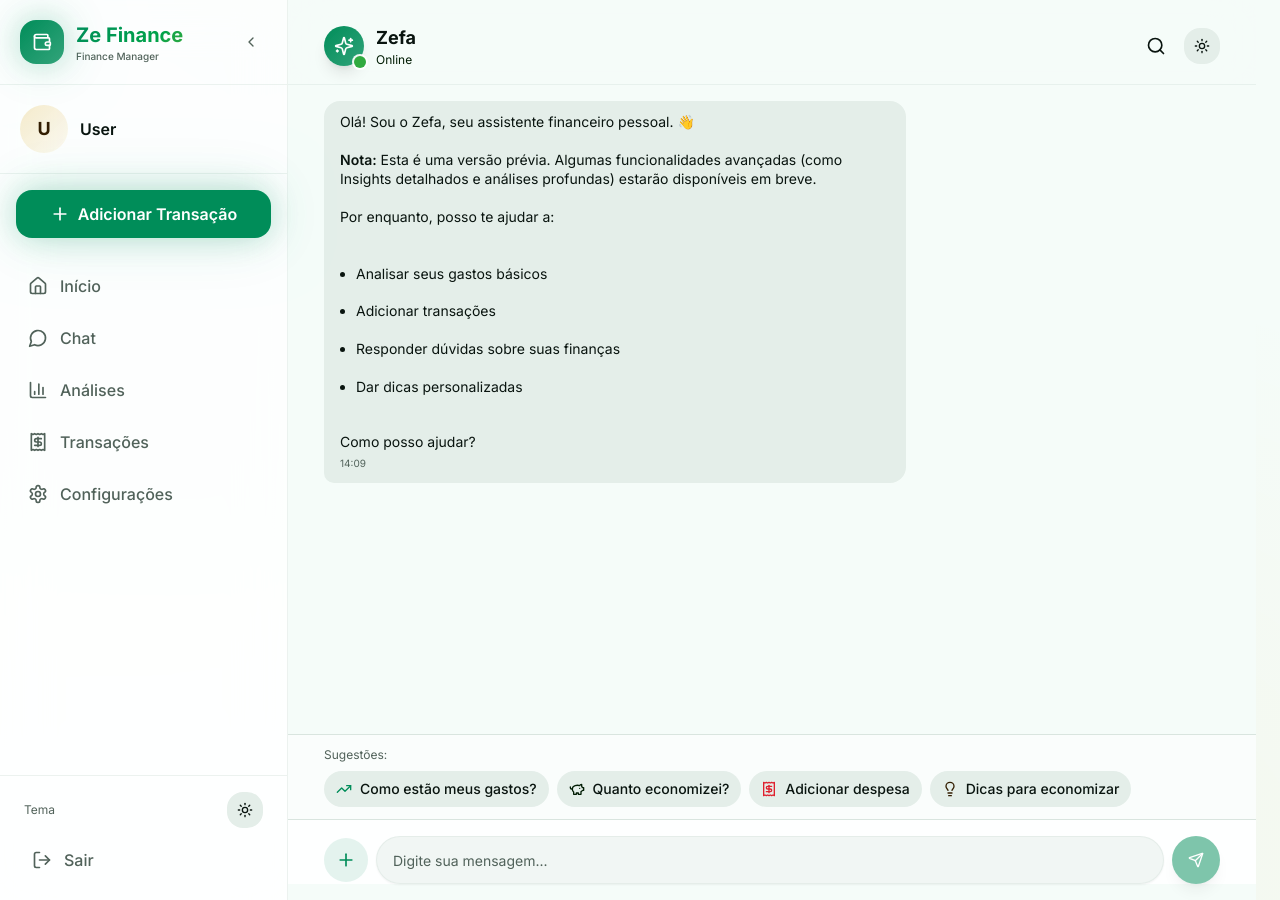
Scenario: Chat Integration Tests › should send a message and display user bubble
The width and height of the screenshot is (1280, 900).
Type "Olá Zefa" into the field with placeholder "Digite sua mensagem...". click: {"x": 770, "y": 860}
box: [376,836,1164,884]
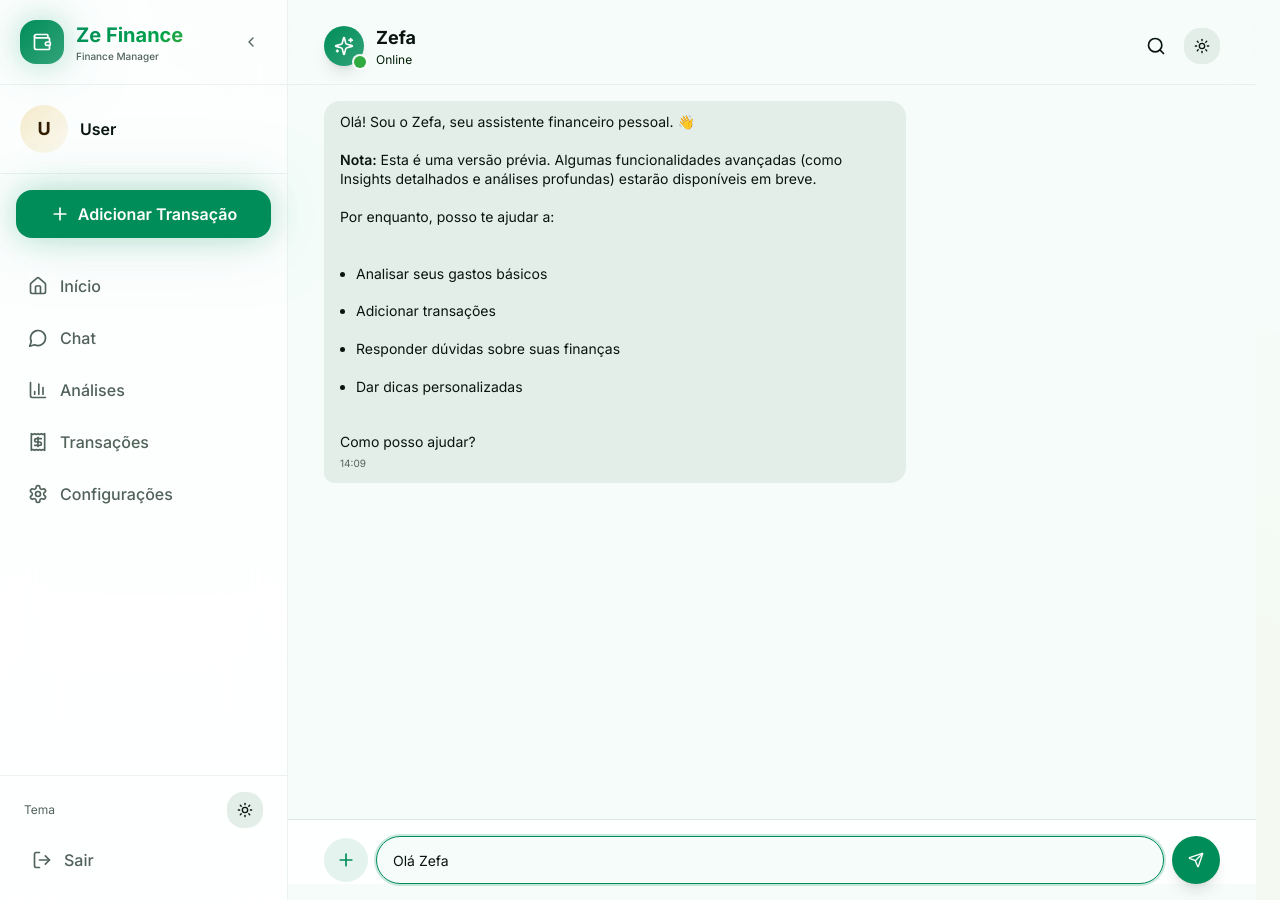
Click the button named "enviar". click: {"x": 1196, "y": 860}
box: [1172,836,1220,884]
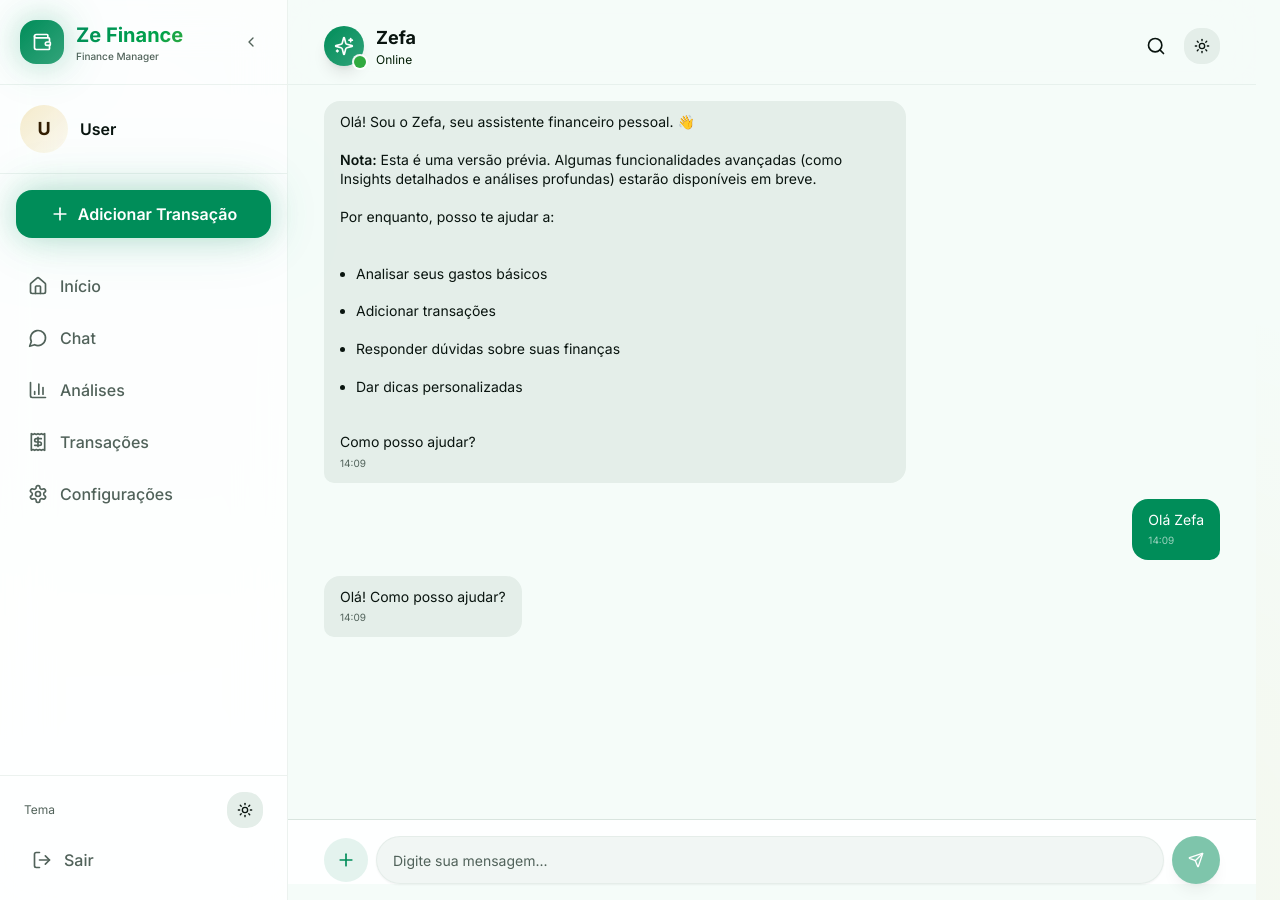
Expected: the text "Olá Zefa" is shown, [1148,511,1204,529]
Expected: the text "Olá! Como posso ajudar?" is shown, [340,588,506,606]
